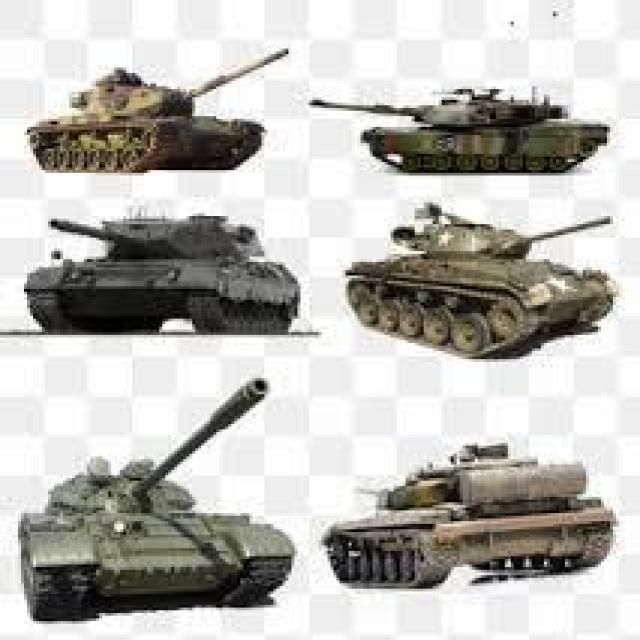MIL_MBT: (21, 361, 300, 614), (311, 374, 575, 622), (26, 192, 317, 373), (33, 15, 300, 188), (317, 35, 569, 197), (326, 228, 575, 379)
